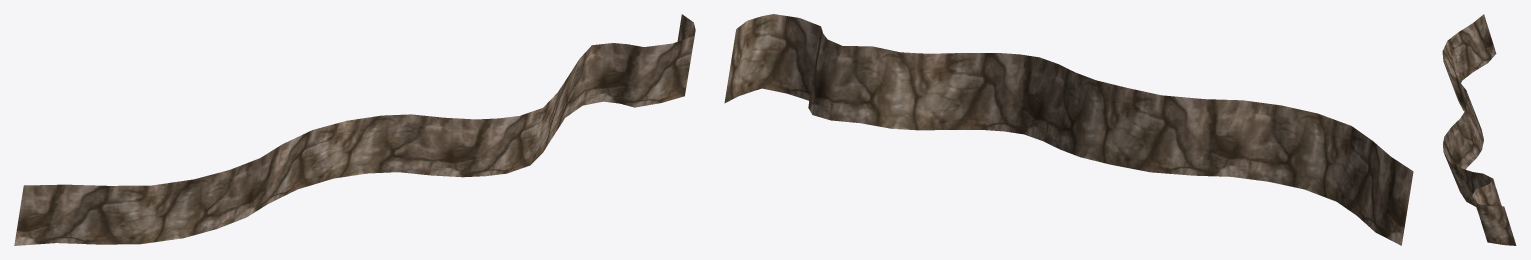
The model's file is OVERHILL_A_01_LINE151.fbx.
3 renders of one model, left to right at view 1: azimuth 30°, elevation 25°; view 2: azimuth 150°, elevation 25°; view 3: azimuth 270°, elevation 25°, orthographic. The views are drawn at different scales.
Visible parts, largest first — view 1: OVERHILL_A_01_LINE151; view 2: OVERHILL_A_01_LINE151; view 3: OVERHILL_A_01_LINE151.
Boxes of the visible parts, x1,y1,x2,y2 form: OVERHILL_A_01_LINE151: (14, 14, 695, 245); OVERHILL_A_01_LINE151: (724, 14, 1413, 245); OVERHILL_A_01_LINE151: (1442, 14, 1516, 245).
Size of the model in its own units: 245672 by 30729 by 40658.
1 material, 1 textured.
